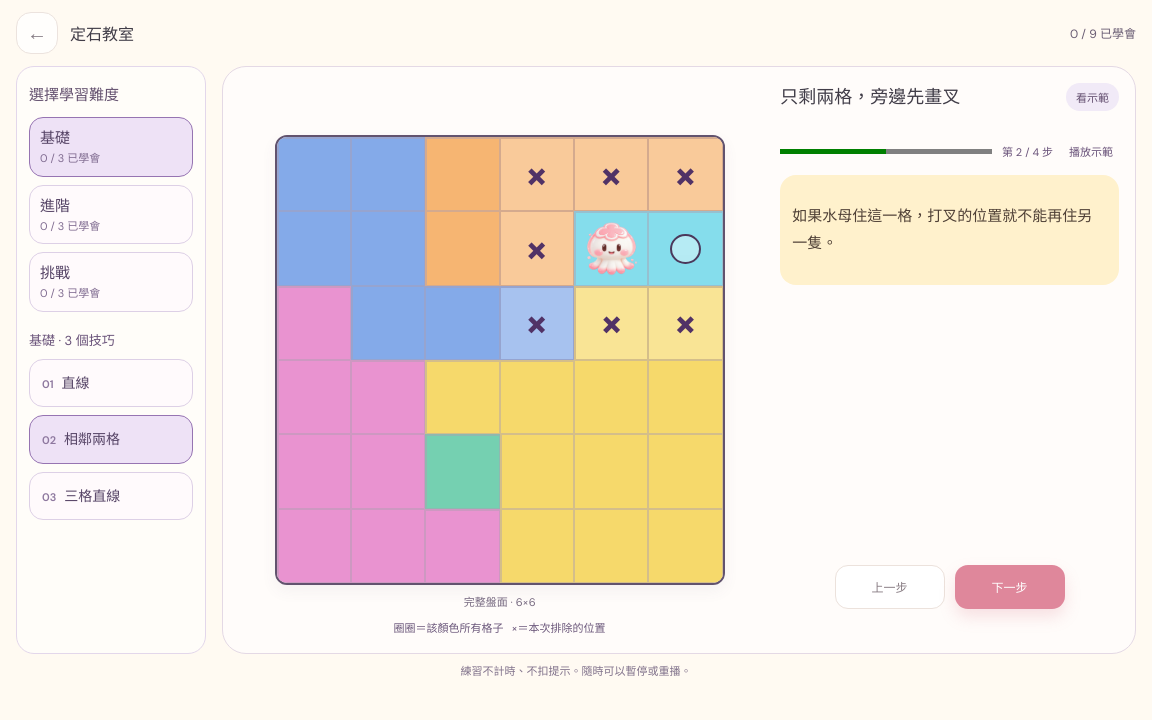
Test: starts at basic difficulty and supports full-board autoplay, pause, previous and comparison
This screenshot has width=1152, height=720.
Earlier steps of the test are not shown.
Later steps or results of the test are not shown.
Click the button with class "next-step" at [1010, 587], box [955, 565, 1065, 609]
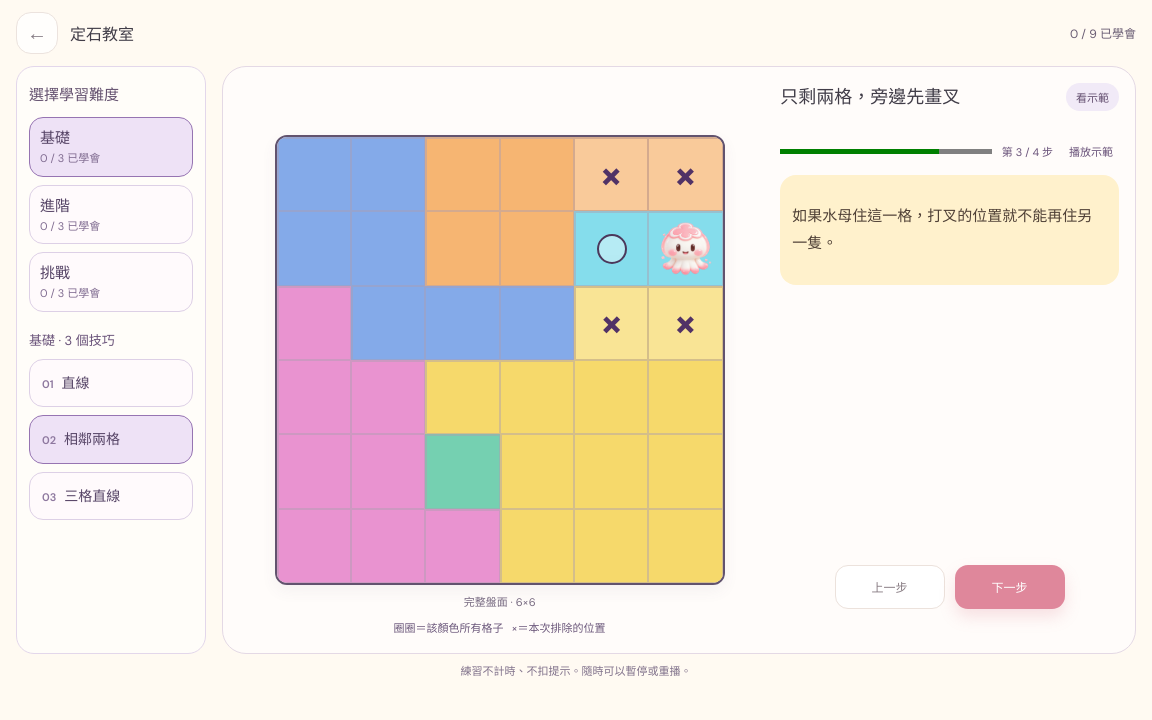
Click the button with class "next-step" at [1010, 587], box [955, 565, 1065, 609]
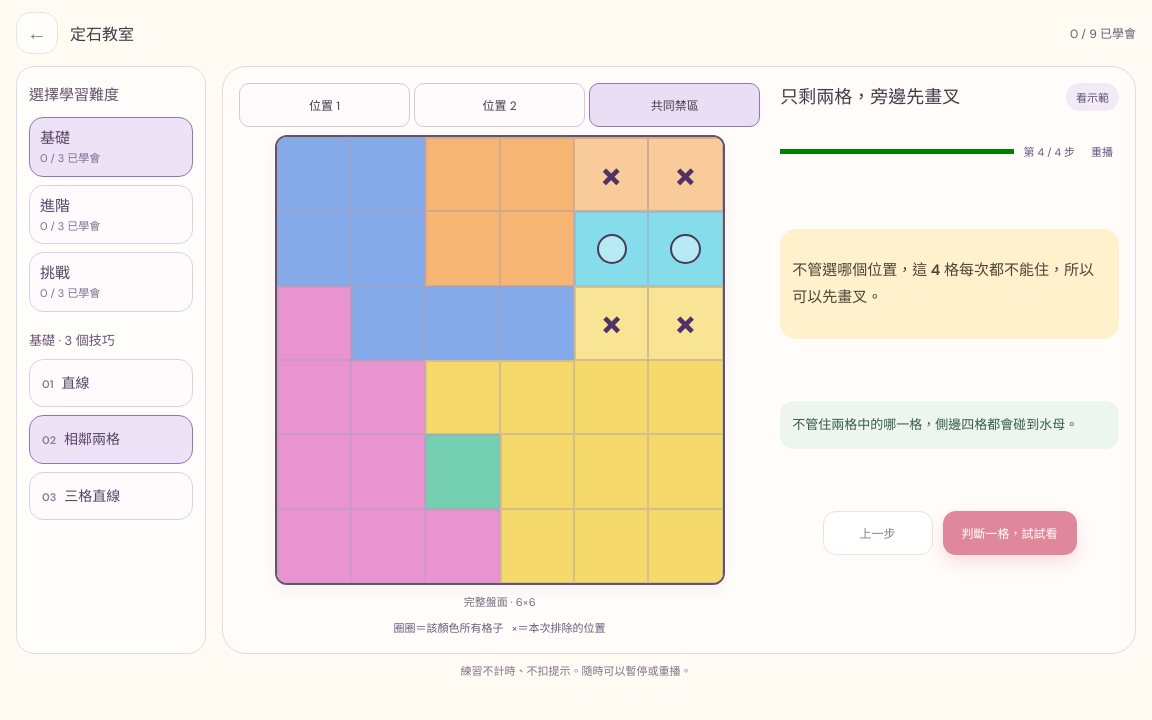
Expected: the number of pictures with class "teaching-board" is 1, [275, 135, 725, 609]
Expected: the number of elements with class "teaching-x" is 4, [575, 139, 647, 210]; [649, 139, 722, 210]; [576, 288, 647, 359]; [649, 288, 722, 359]
Click the button "位置 1" at [325, 105], box [239, 83, 410, 127]
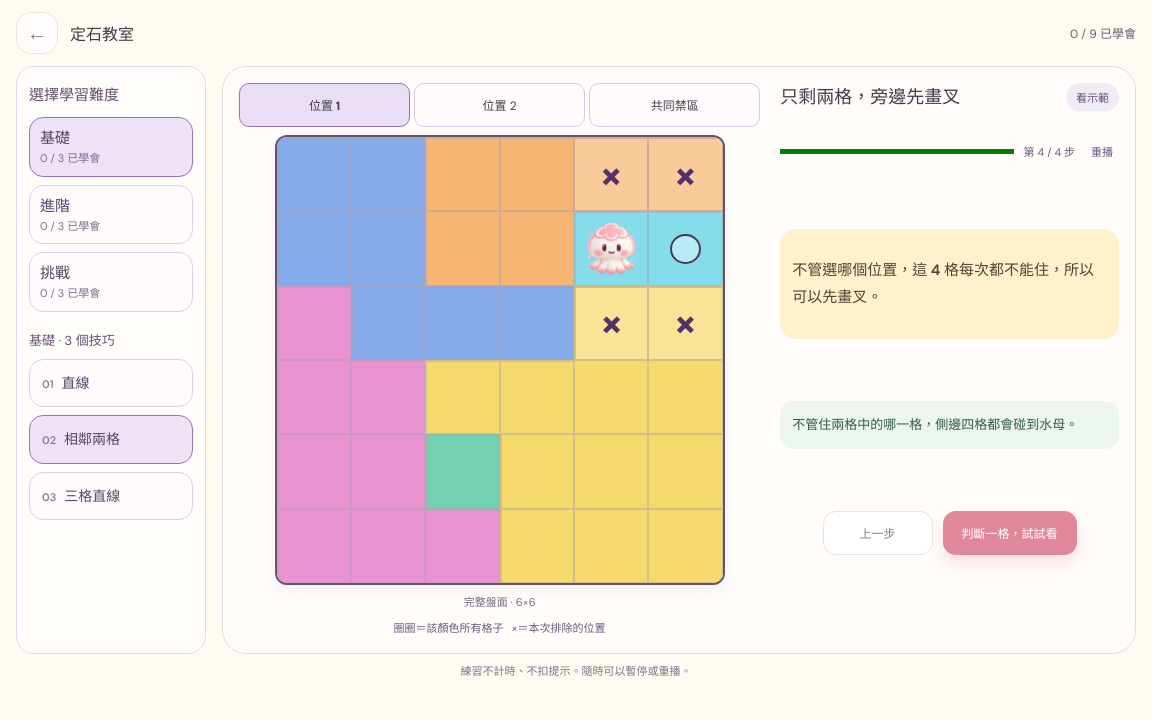
Expected: the number of elements with class "trial" is 1, [574, 211, 648, 286]
Expected: the number of elements with class "teaching-x" is 4, [575, 139, 647, 210]; [649, 139, 722, 210]; [576, 288, 647, 359]; [649, 288, 722, 359]
Click the button "位置 2" at [500, 105], box [414, 83, 585, 127]
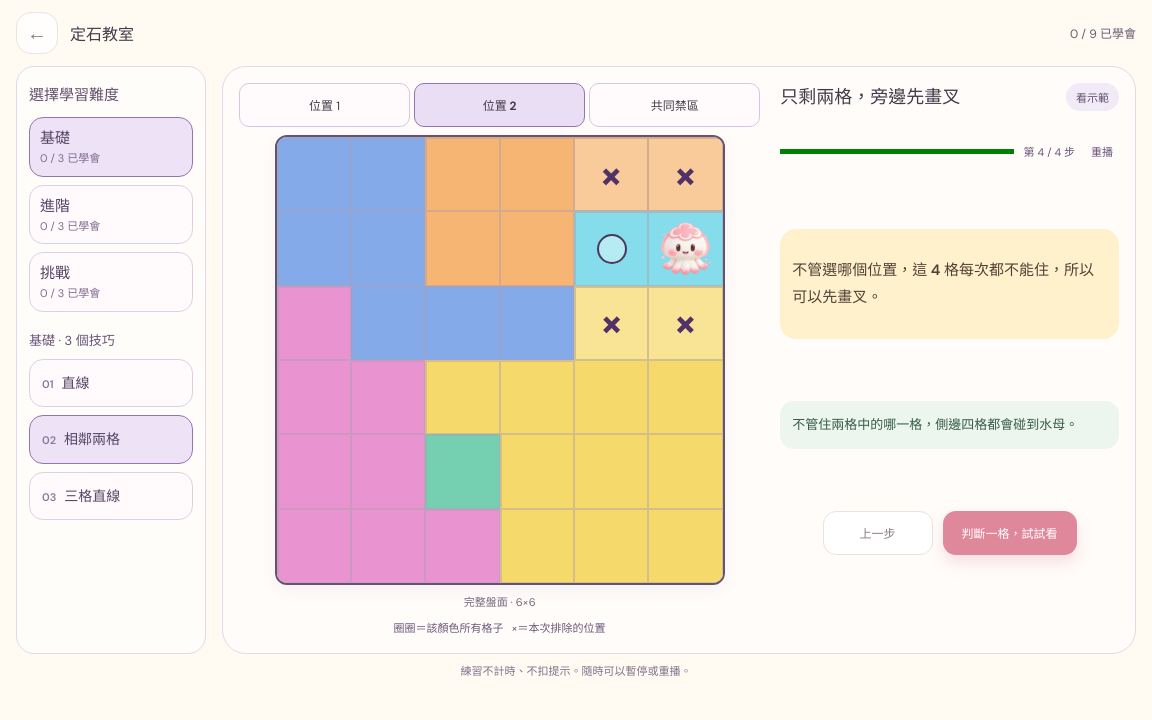
Expected: the number of elements with class "trial" is 1, [648, 211, 723, 286]
Expected: the number of elements with class "teaching-x" is 4, [575, 139, 647, 210]; [649, 139, 722, 210]; [576, 288, 647, 359]; [649, 288, 722, 359]
Click the button "共同禁區" at [675, 105], box [589, 83, 760, 127]
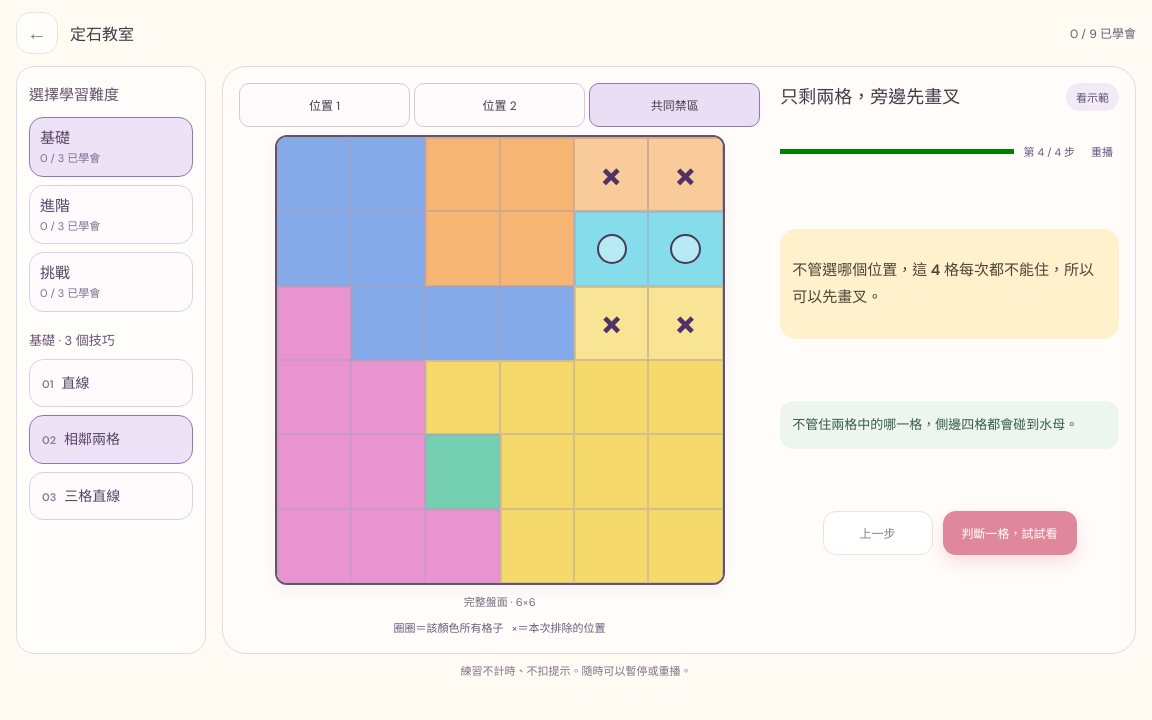
Click the button "重播" at [1102, 151], box [1085, 142, 1119, 160]
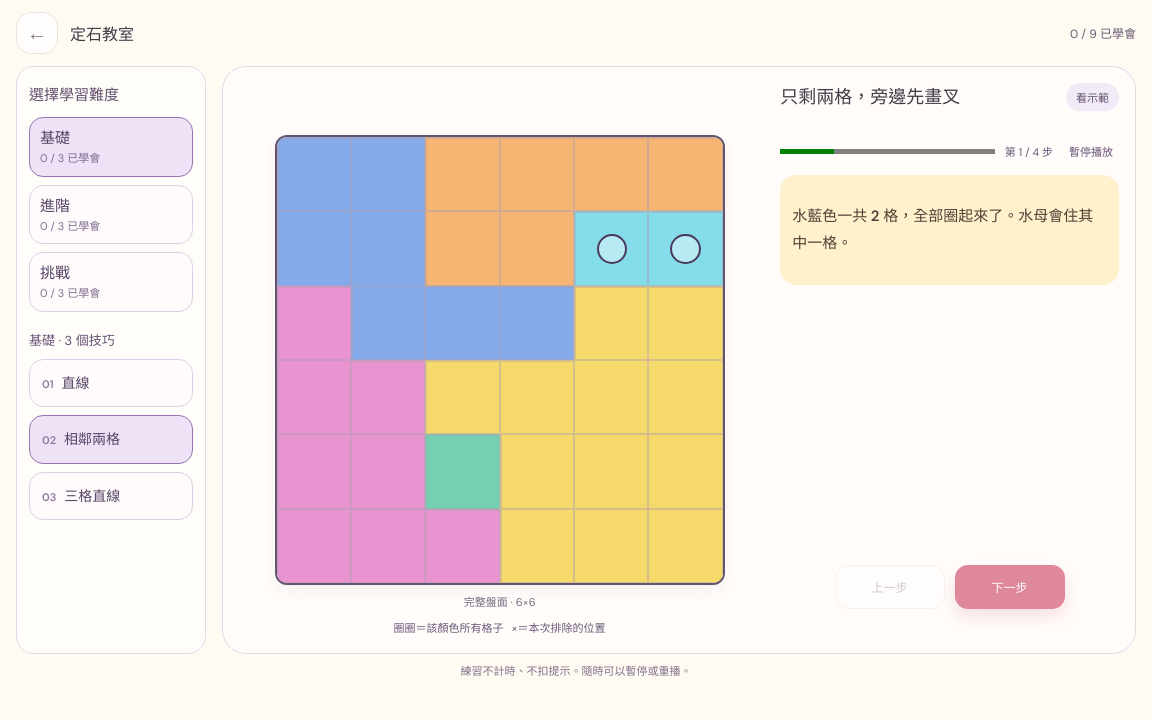
Expected: the text "第 1 / 4 步" is shown, [1005, 143, 1053, 159]
